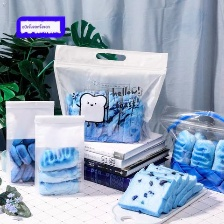snack: (48, 40, 171, 148), (153, 101, 224, 196), (0, 95, 59, 188), (28, 110, 88, 201)
